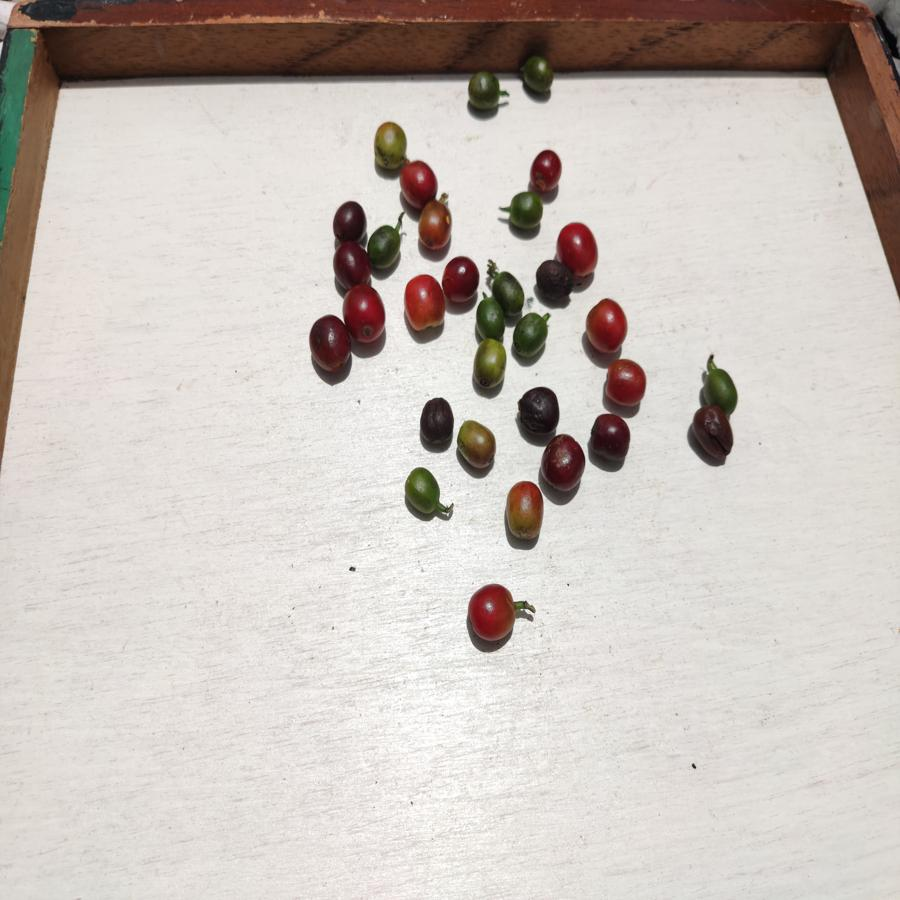Inmaduro: (401, 467, 449, 521), (367, 225, 405, 270), (512, 315, 551, 358), (493, 272, 528, 318), (702, 365, 740, 407), (506, 192, 545, 232), (467, 70, 502, 113), (474, 297, 507, 338), (520, 57, 555, 94)
Maduro: (466, 583, 535, 645), (583, 298, 630, 356), (346, 286, 389, 345), (404, 275, 446, 332), (606, 359, 647, 406), (561, 223, 598, 274), (398, 161, 440, 201), (527, 150, 564, 190)
Pinton: (504, 480, 543, 542), (458, 418, 498, 472), (417, 199, 456, 252), (369, 119, 408, 170), (473, 338, 508, 390)
Sobremaduro: (691, 403, 735, 464), (541, 435, 585, 495), (307, 313, 348, 374), (415, 394, 456, 448), (590, 413, 631, 466), (441, 255, 480, 304), (516, 389, 559, 432), (328, 242, 370, 285), (531, 262, 569, 303), (334, 201, 369, 242)
